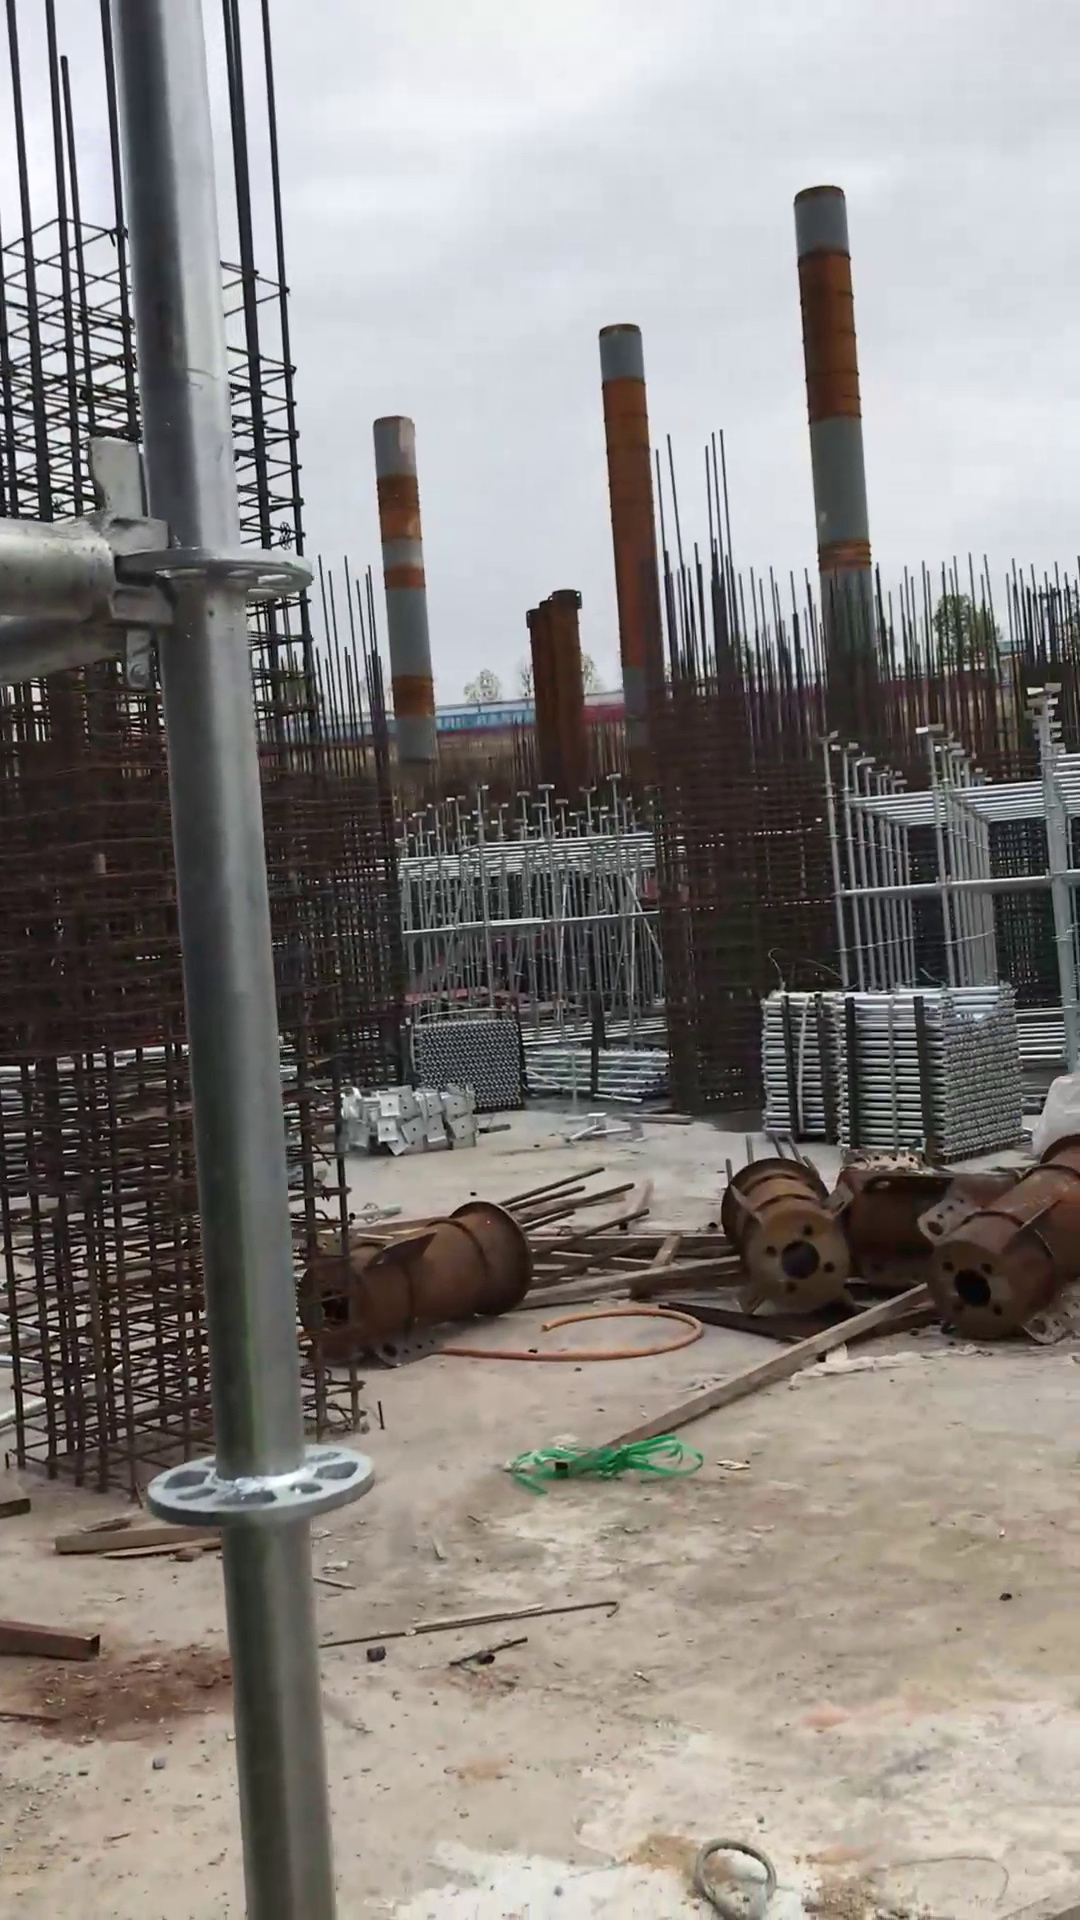scaffold: (760, 972, 1036, 1167), (402, 1010, 535, 1122)
slogan: (435, 702, 542, 738)
